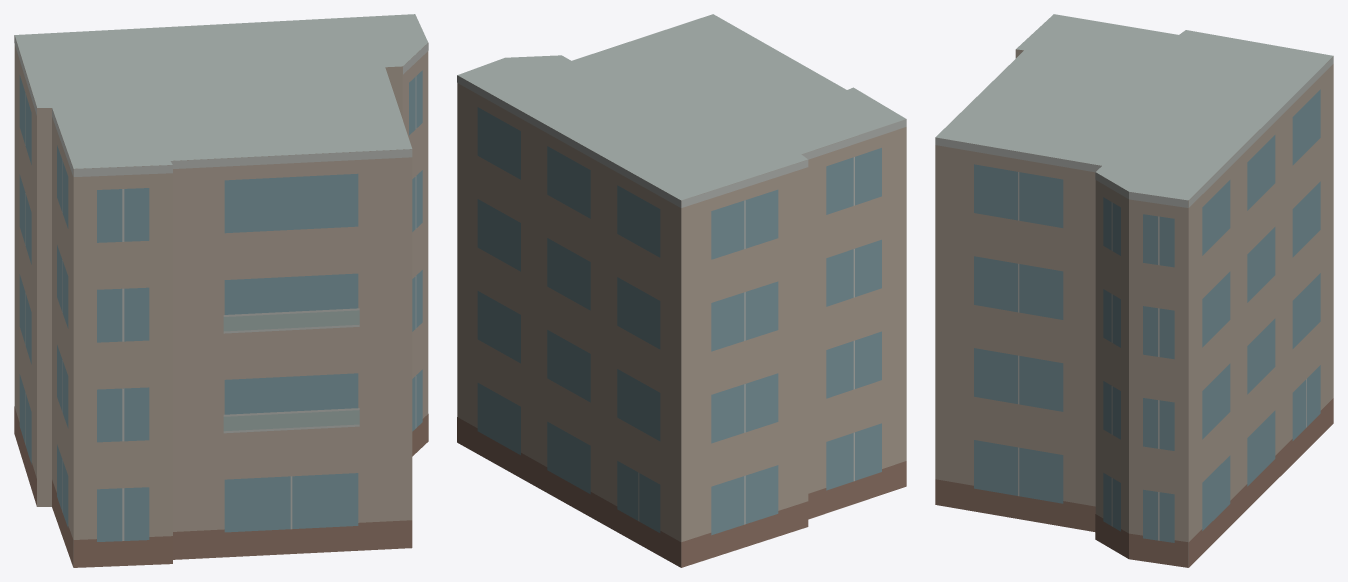
Rendered from survey-upis-32874280.glb.
3 views of the same model, side by side, from view 1: azimuth 30°, elevation 25°; view 2: azimuth 150°, elevation 25°; view 3: azimuth 270°, elevation 25° (orthographic). The views are drawn at different scales.
Visible parts, largest first — view 1: survey-upis-32874280.tmp; view 2: survey-upis-32874280.tmp; view 3: survey-upis-32874280.tmp.
Part boxes in pixels (x1,y1,x2,y2): survey-upis-32874280.tmp: (14, 14, 428, 567); survey-upis-32874280.tmp: (457, 14, 906, 567); survey-upis-32874280.tmp: (935, 14, 1333, 567).
Size of the model in its own units: 12.74 by 11.7 by 11.5.
